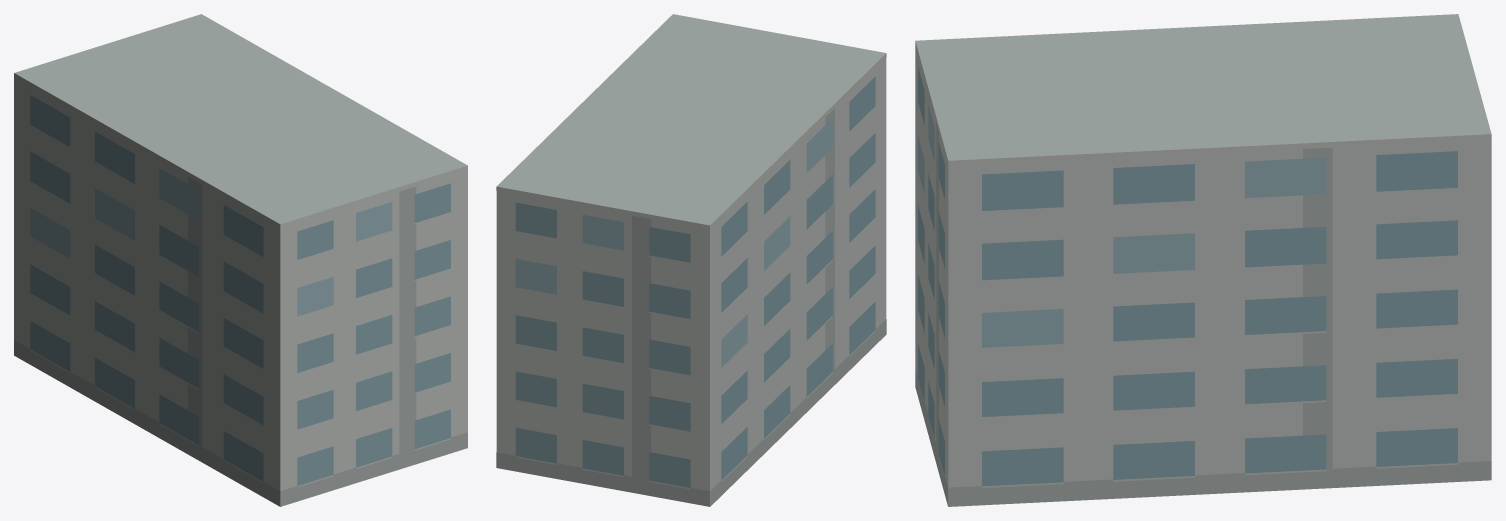
Rendered from residential-9707ed67-5da4-4759-8f0b-24041cacc49e.glb.
3 views of the same model, side by side, from view 1: azimuth 30°, elevation 25°; view 2: azimuth 150°, elevation 25°; view 3: azimuth 270°, elevation 25° (orthographic). The views are drawn at different scales.
Visible parts, largest first — view 1: residential-9707ed67-5da4-4759-8f0b-24041cacc49e.tmp; view 2: residential-9707ed67-5da4-4759-8f0b-24041cacc49e.tmp; view 3: residential-9707ed67-5da4-4759-8f0b-24041cacc49e.tmp.
Boxes of the visible parts, x1,y1,x2,y2 form: residential-9707ed67-5da4-4759-8f0b-24041cacc49e.tmp: (14, 14, 467, 506); residential-9707ed67-5da4-4759-8f0b-24041cacc49e.tmp: (496, 14, 886, 506); residential-9707ed67-5da4-4759-8f0b-24041cacc49e.tmp: (915, 14, 1491, 506).
Bounding box in the file's own units: 13.88 × 15.25 × 23.02.
